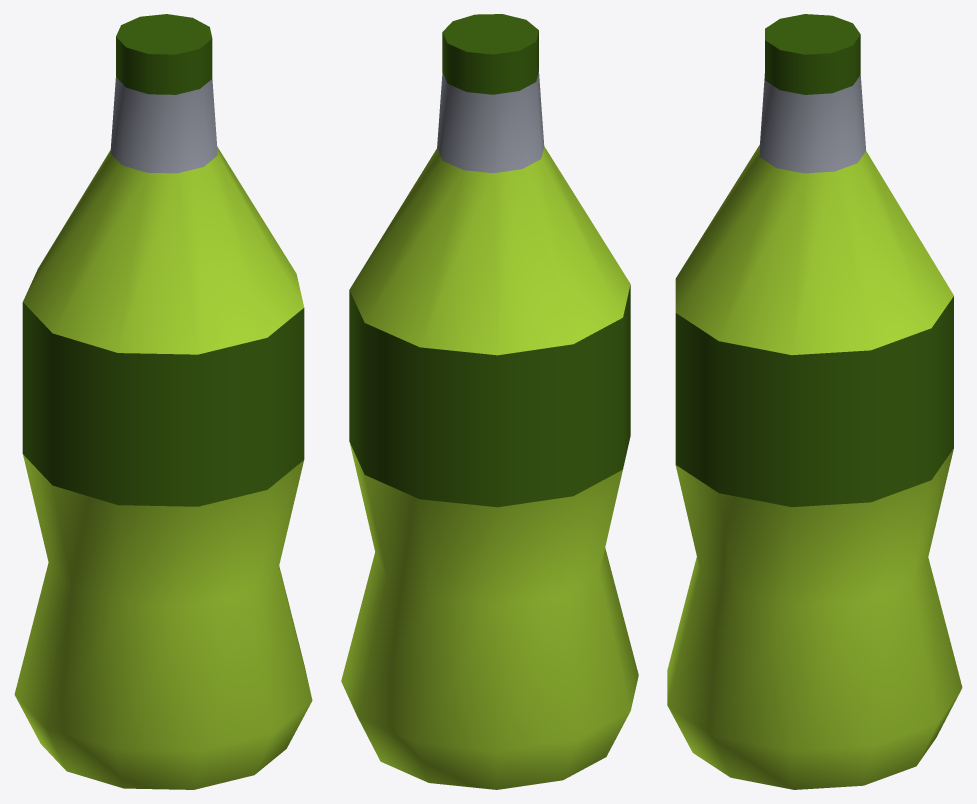
Rendered from Sprite.fbx.
The picture shows the model from 3 angles, left to right: view 1: azimuth 30°, elevation 25°; view 2: azimuth 150°, elevation 25°; view 3: azimuth 270°, elevation 25°; orthographic projection.
Parts seen in each view (by area): view 1: Sprite; view 2: Sprite; view 3: Sprite.
Boxes of the visible parts, x1,y1,x2,y2 form: Sprite: (14,14,312,789); Sprite: (341,14,638,789); Sprite: (667,14,962,789).
Size of the model in its own units: 4.8 by 12.49 by 4.75.
